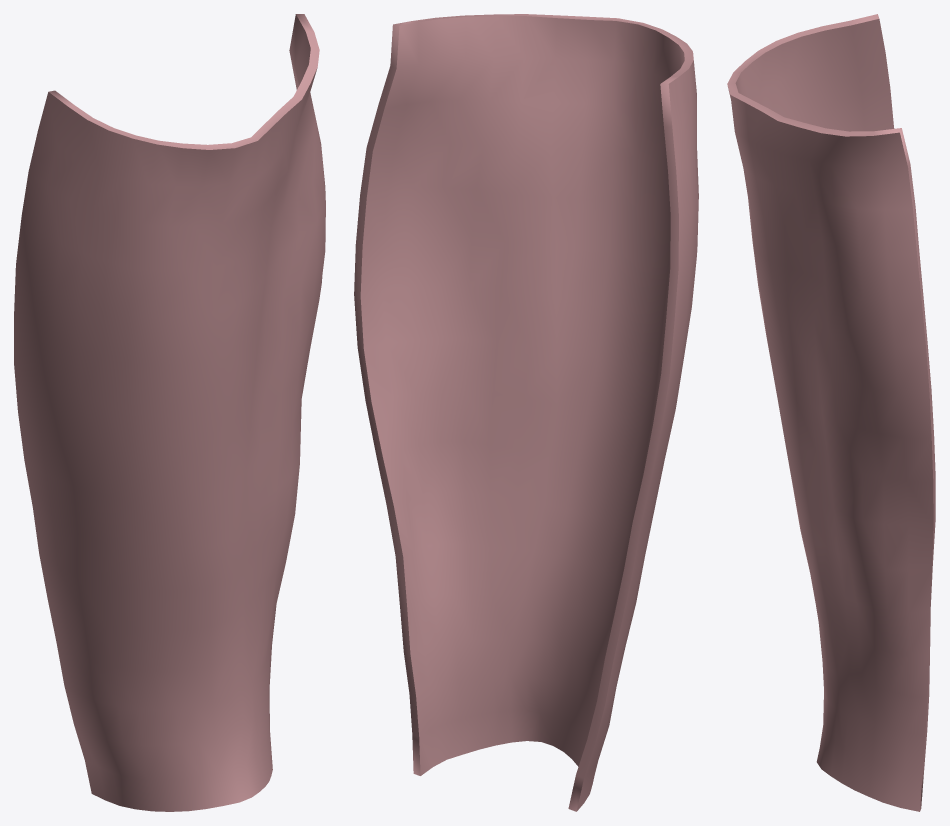
3 views of the same model, side by side, from view 1: azimuth 30°, elevation 25°; view 2: azimuth 150°, elevation 25°; view 3: azimuth 270°, elevation 25° (orthographic). The views are drawn at different scales.
Parts seen in each view (by area): view 1: ZA_7b96535e4e77e5a6; view 2: ZA_7b96535e4e77e5a6; view 3: ZA_7b96535e4e77e5a6.
Boxes of the visible parts, left/top/right/bottom form: ZA_7b96535e4e77e5a6: left=14, top=14, right=325, bottom=811; ZA_7b96535e4e77e5a6: left=354, top=14, right=698, bottom=811; ZA_7b96535e4e77e5a6: left=727, top=14, right=935, bottom=811.
Bounding box in the file's own units: 0.1182 × 0.2693 × 0.0732.
